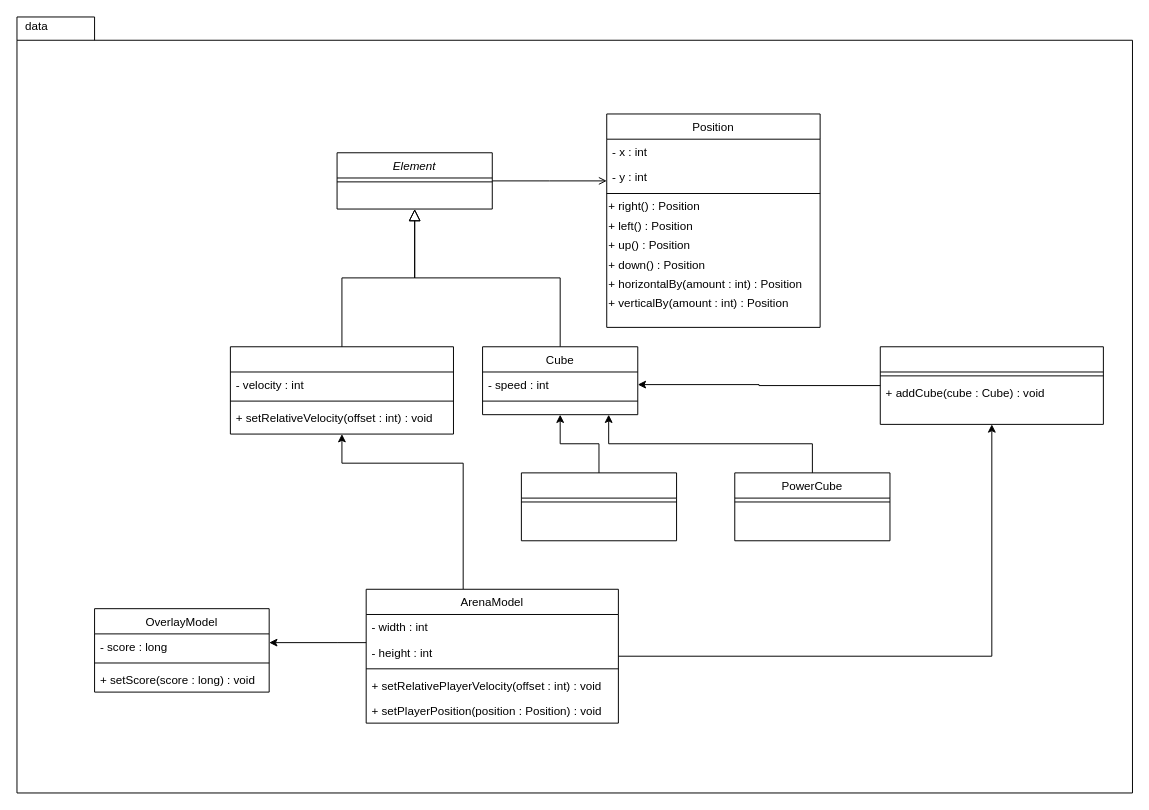
Some shapes in this 1149 by 810 pixel diagram are drawn without their labels. Here are the shapes that lost their labels. From the top down, the box of each, then its label:
(229, 346, 453, 434): PlayerModel
(879, 346, 1103, 424): CubeModel
(520, 472, 677, 541): NormalCube
